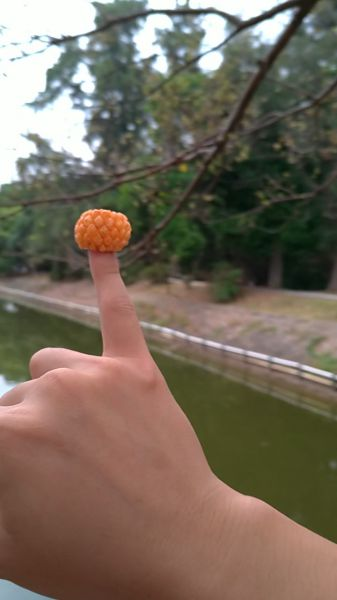eggs: (72, 209, 134, 253)
